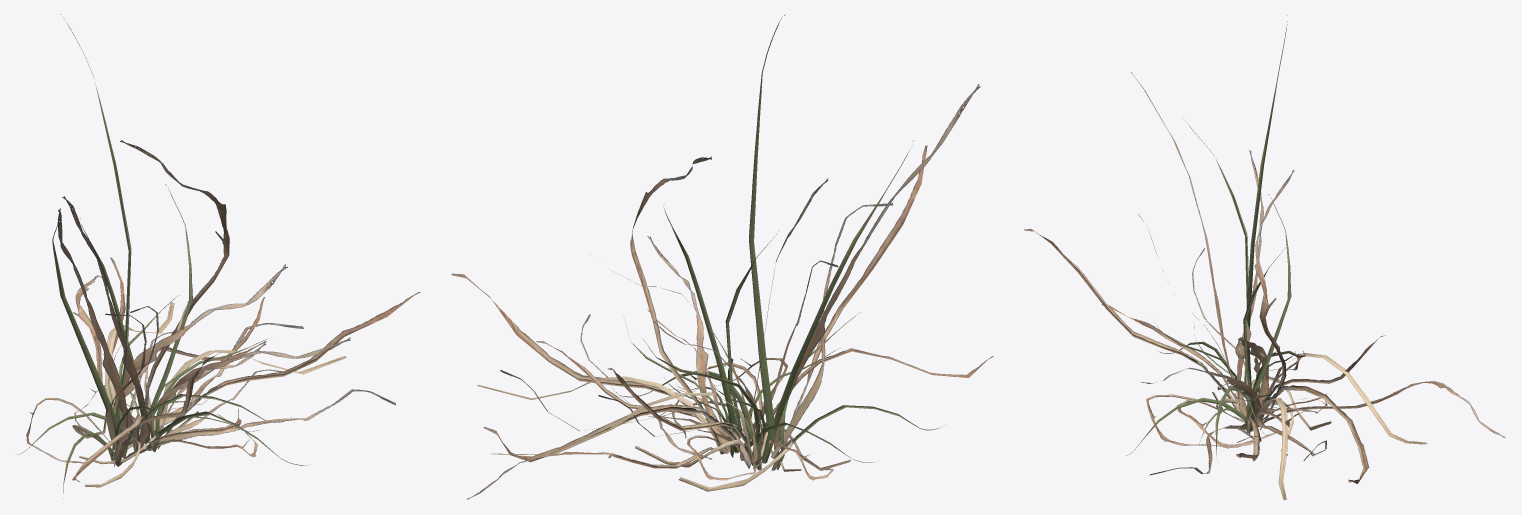
File: grass_medium_02_b.gltf
3 views of the same model, side by side, from view 1: azimuth 30°, elevation 25°; view 2: azimuth 150°, elevation 25°; view 3: azimuth 270°, elevation 25° (orthographic). The views are drawn at different scales.
Parts seen in each view (by area): view 1: grass_medium_02_b; view 2: grass_medium_02_b; view 3: grass_medium_02_b.
Boxes of the visible parts, bbox=[...] form: grass_medium_02_b: bbox=[16, 14, 420, 498]; grass_medium_02_b: bbox=[451, 14, 993, 499]; grass_medium_02_b: bbox=[1024, 15, 1505, 499].
Bounding box in the file's own units: 0.1791 × 0.1796 × 0.1993.
1 material, 1 textured.
